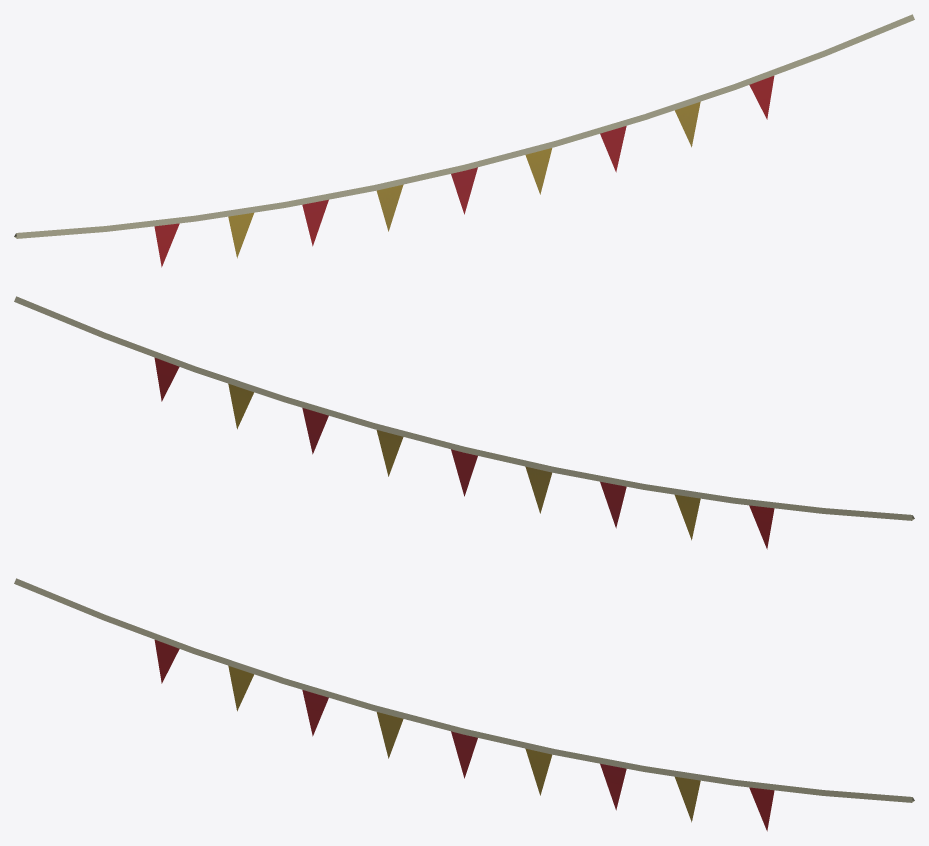
File: Rope_2B.fbx
The picture shows the model from 3 angles, top to bottom: view 1: azimuth 30°, elevation 25°; view 2: azimuth 150°, elevation 25°; view 3: azimuth 330°, elevation 25°; orthographic projection.
Visible parts, largest first — view 1: polySurface9886; view 2: polySurface9886; view 3: polySurface9886.
Part boxes in pixels (box(x1,y1,x2,y2)): polySurface9886: box(14, 14, 914, 267); polySurface9886: box(14, 296, 914, 549); polySurface9886: box(14, 578, 914, 831).
Size of the model in its own units: 1195 by 116 by 6.93.
